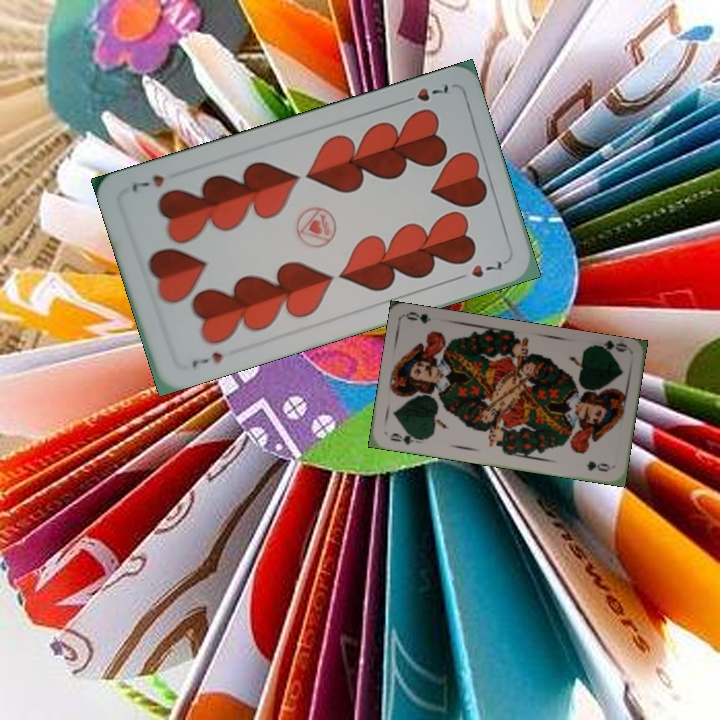GO: (589, 337, 630, 358), (386, 428, 425, 447)
H7: (396, 79, 451, 107), (188, 348, 225, 370)
